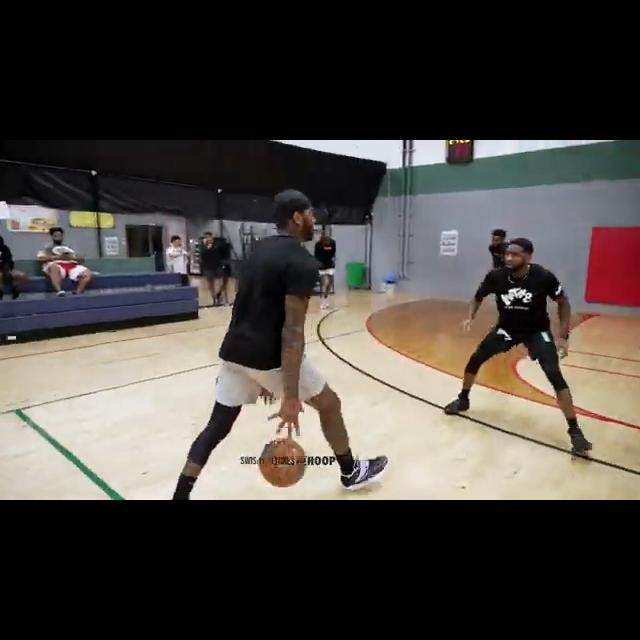basketball: (258, 438, 307, 488)
